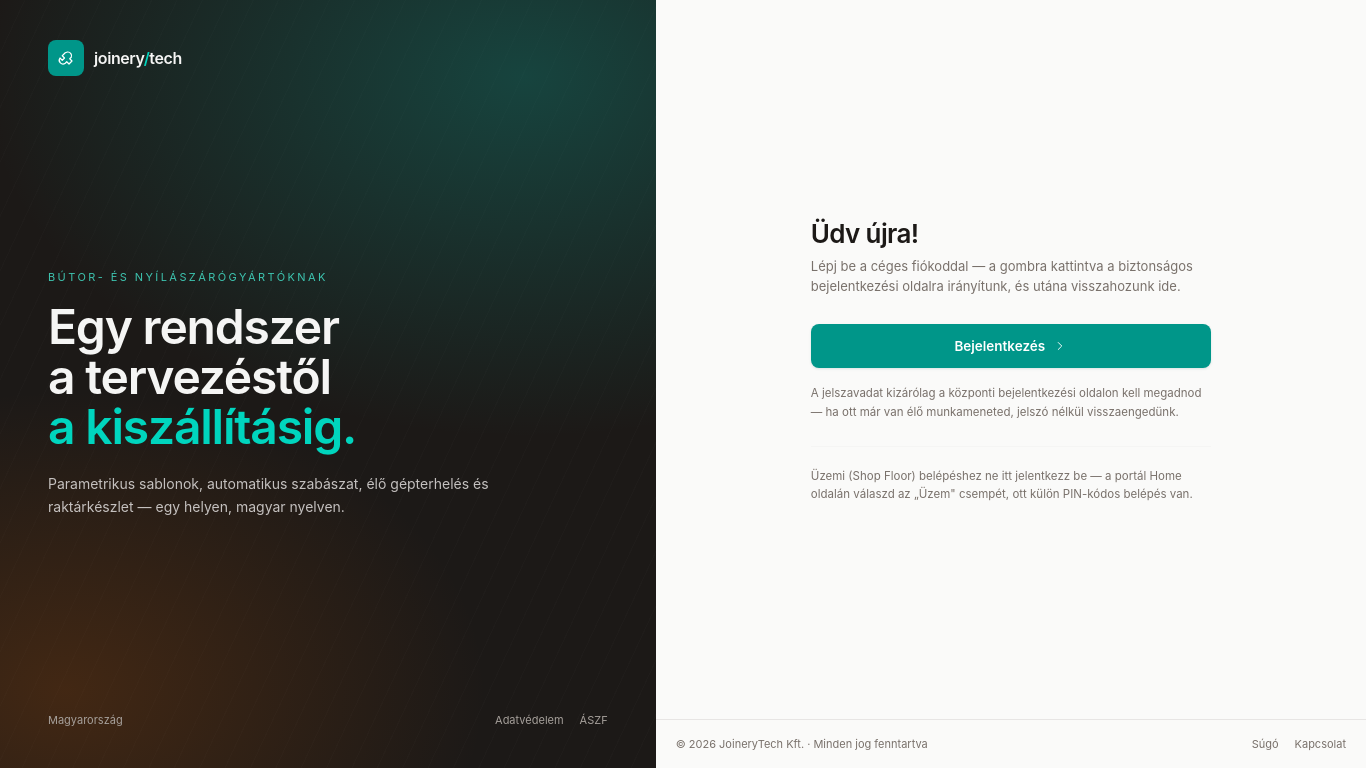
LoginPage › ha a redirect el sem indul, látható hibát ad és a gomb újra aktív
Click the button "Bejelentkezés": (1011, 346) [811,324,1211,368]
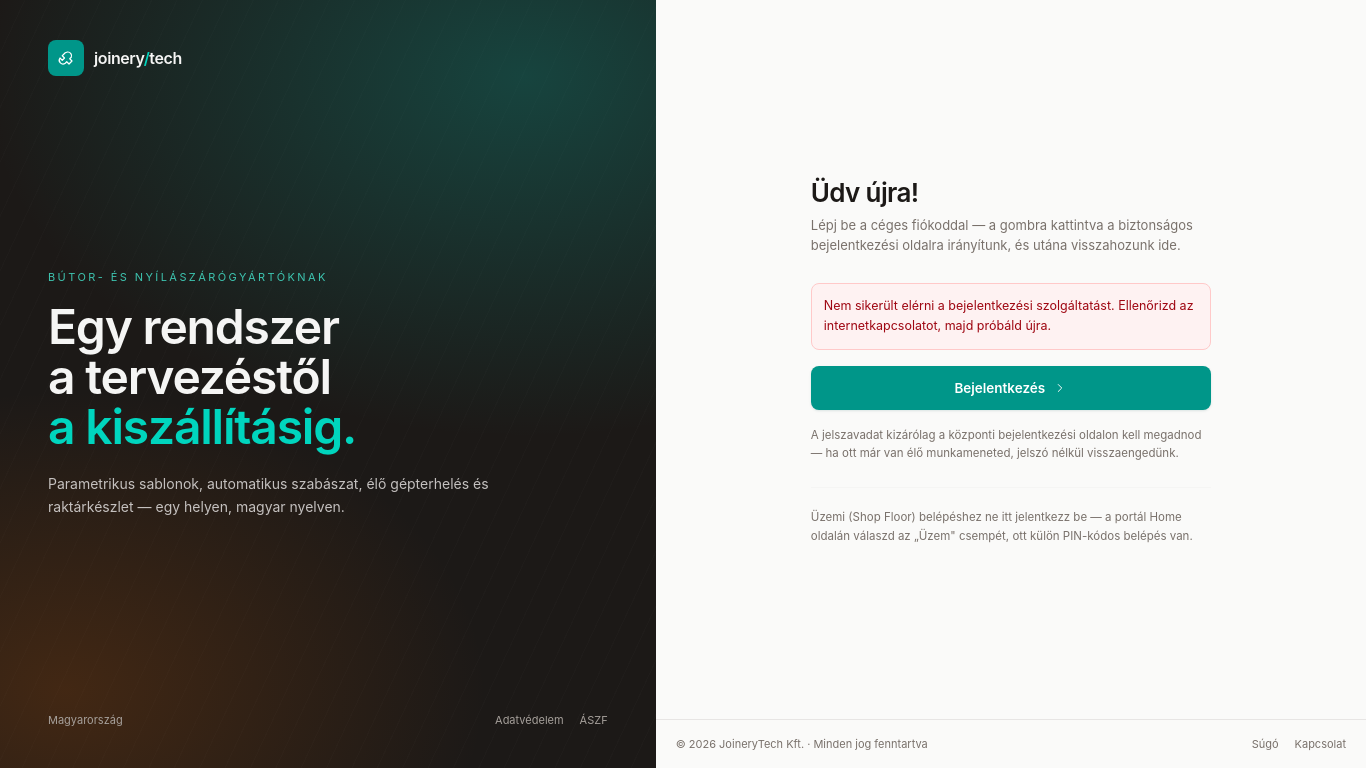
Check: the button "Bejelentkezés" is enabled, box [811,366,1211,410]
Check: the message shows "Nem sikerült elérni", box [824,298,1194,333]
